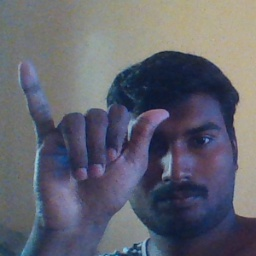J: (15, 60, 168, 222)
